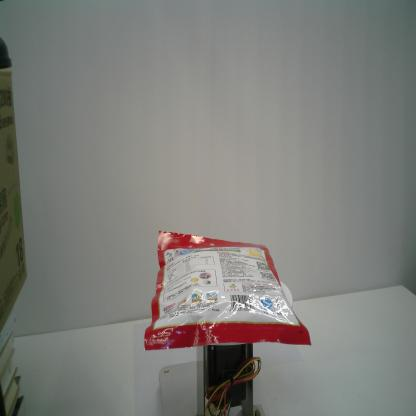Instant Drink: (143, 228, 314, 352)
